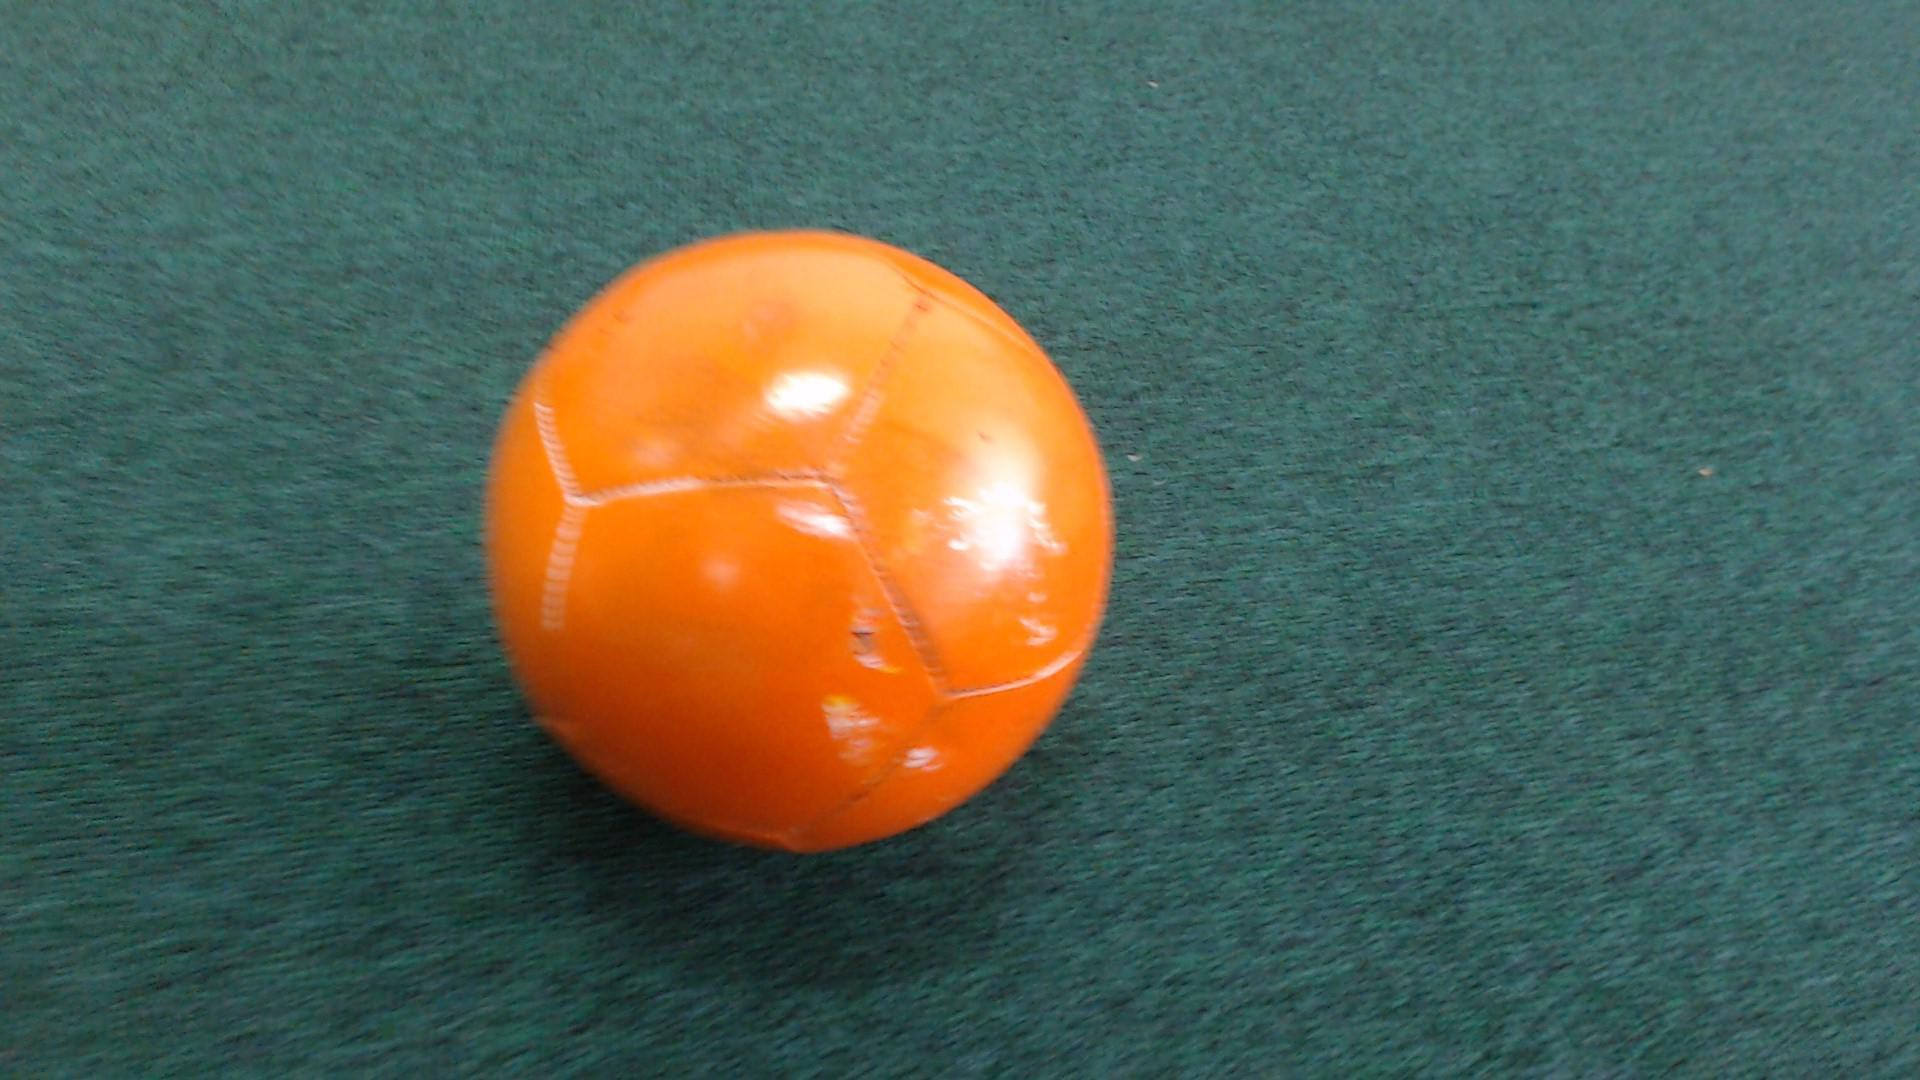bola: (438, 195, 1176, 910)
